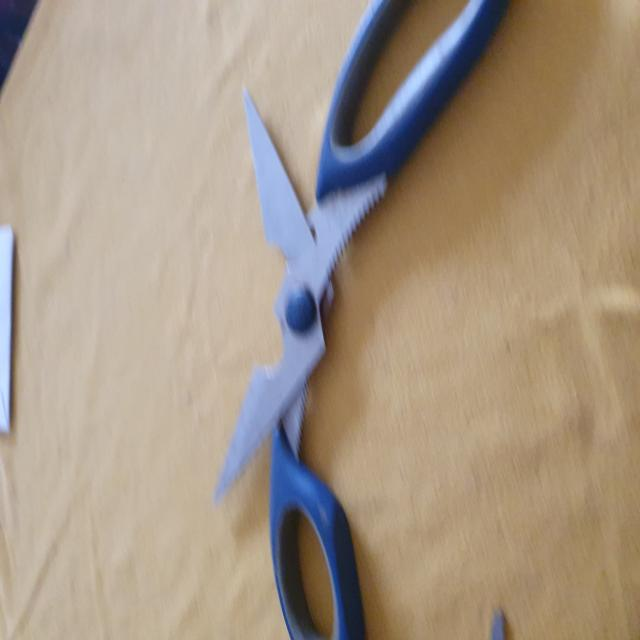scissors: (219, 0, 512, 640)
